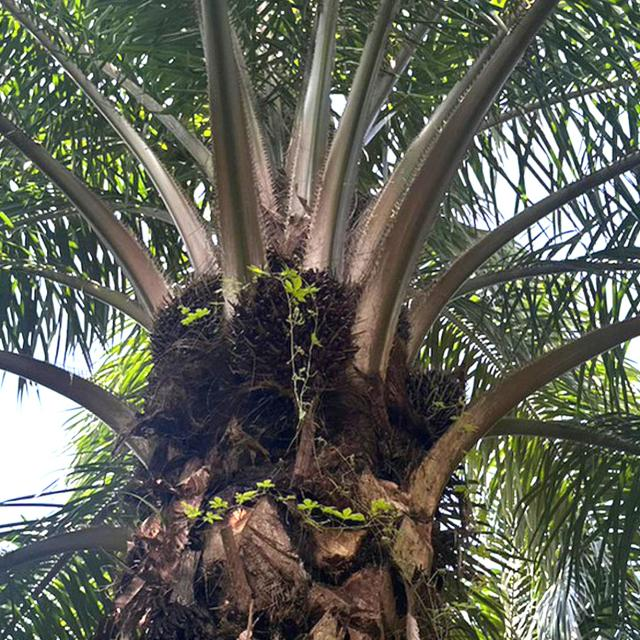ripe: (215, 251, 373, 410)
